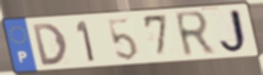1: (74, 19, 97, 64)
5: (105, 16, 140, 61)
7: (141, 13, 171, 60)
D: (30, 21, 70, 68)
J: (217, 7, 251, 55)
R: (172, 9, 218, 60)
